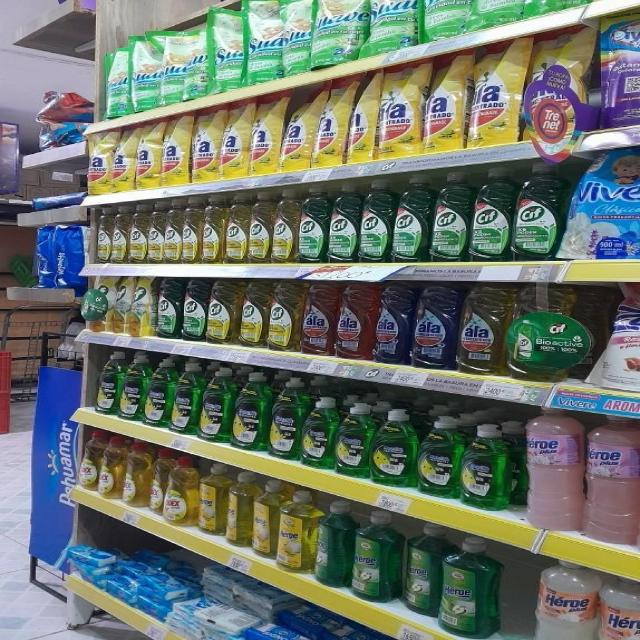ala_conc_amarillo: (458, 284, 507, 375)
ala_conc_azul: (411, 283, 456, 369), (374, 285, 410, 364)
ala_conc_rojo: (334, 284, 374, 361), (300, 283, 334, 356)
ala_crem_rosado: (584, 414, 640, 546), (524, 407, 582, 532)
ala_sachet_amarillo: (469, 55, 521, 146), (379, 60, 422, 158), (424, 63, 465, 152), (250, 94, 280, 175), (191, 106, 220, 182), (222, 102, 250, 179), (282, 105, 312, 172), (86, 129, 112, 194), (137, 119, 161, 189), (112, 126, 136, 192)
cif_conc_bot_amarilla: (268, 280, 298, 352), (207, 279, 238, 345), (272, 189, 296, 264), (240, 280, 266, 348), (224, 192, 248, 264), (248, 191, 270, 265), (202, 195, 223, 264), (130, 276, 152, 338), (182, 197, 200, 264), (128, 203, 146, 264), (165, 198, 181, 264), (148, 200, 163, 264), (112, 205, 128, 264), (96, 206, 111, 265)
cif_conc_botella_verde: (512, 162, 562, 261), (469, 167, 511, 262), (431, 170, 468, 262), (392, 174, 429, 263), (359, 180, 391, 263), (328, 182, 358, 263), (297, 187, 326, 264), (181, 279, 206, 342), (156, 278, 180, 340)
heroe: (532, 561, 596, 640), (597, 578, 640, 640)
magistral_con_amarillo: (278, 488, 312, 574)
odex: (163, 453, 198, 527), (99, 434, 122, 499)
